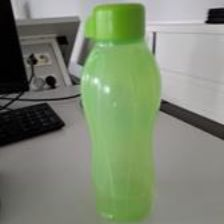bottle: (80, 2, 164, 220)
